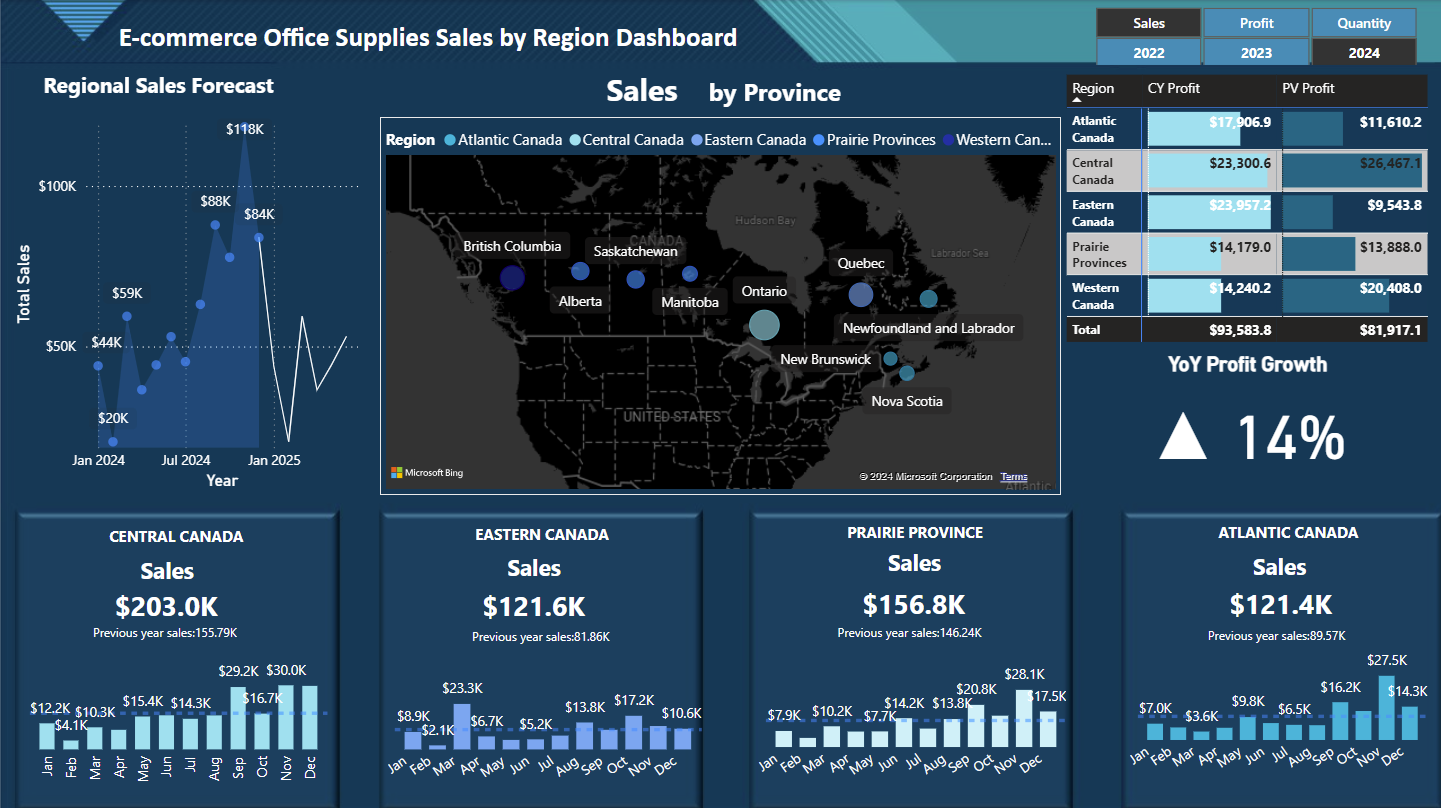

The page's visual inventory and layout, read from the dashboard file:
{"tool":"powerbi","page":{"name":"Sales","canvas":[1280,720],"ordinal":0},"visuals":[{"type":"textbox","box":[84,12,591,45],"z":0},{"type":"textbox","box":[411.4,460.2,138.3,31],"z":0,"group":"g3"},{"type":"slicer","fields":{"Values":["Select Metric.Select Metric"]},"box":[946.1,0,334.3,32.8],"z":1000},{"type":"card","fields":{"Values":["Sales Data.Dynamic Title"]},"box":[399.9,480.4,147.2,48.8],"z":1000,"group":"g3"},{"type":"card","fields":{"Values":["Sales Data.Total Sales"]},"box":[1075.8,513.2,119.7,45.8],"z":1000,"group":"g5"},{"type":"card","fields":{"Values":["Sales Data.Total Sales"]},"box":[734,515.6,151.6,39.9],"z":1000,"group":"g4"},{"type":"card","fields":{"Values":["Sales Data.Total Sales"]},"box":[67.9,517.8,160,40],"z":1000,"group":"g2"},{"type":"slicer","fields":{"Values":["Calendre table.Year"]},"box":[946.1,26.6,334.3,31],"z":2000},{"type":"textbox","box":[739.3,458,143.6,31],"z":2000,"group":"g4"},{"type":"textbox","box":[1022.6,458.4,240.3,33.3],"z":2000,"group":"g5"},{"type":"textbox","box":[76.1,462.3,144.5,30],"z":2000,"group":"g2"},{"type":"card","fields":{"Values":["Sales Data.PreviousYearSales"]},"box":[361.7,535.6,235.4,62.8],"z":2000,"group":"g3"},{"type":"map","fields":{"Size":["Sales Data.Total Sales"],"Category":["Sales Data.State/Province"],"Series":["Sales Data.Region"]},"box":[336.9,103.7,603.8,335.2],"z":3000},{"type":"card","fields":{"Values":["Sales Data.Dynamic Title"]},"box":[740.4,475.3,140.7,47.9],"z":3000,"group":"g4"},{"type":"card","fields":{"Values":["Sales Data.Dynamic Title"]},"box":[1085.3,477.5,98.4,51.4],"z":3000,"group":"g5"},{"type":"card","fields":{"Values":["Sales Data.Dynamic Title"]},"box":[73.4,484.1,149.1,47.3],"z":3000,"group":"g2"},{"type":"clusteredColumnChart","fields":{"Y":["Sales Data.Total Sales"],"Category":["Calendre table.Month"]},"box":[336.1,589.8,290.8,121.9],"z":3000,"group":"g3"},{"type":"group","id":"g1","title":"Group 3","box":[477.9,53.2,339.7,54.1],"z":4000},{"type":"card","fields":{"Values":["Sales Data.PreviousYearSales"]},"box":[692.4,532.4,227.9,60.3],"z":4000,"group":"g4"},{"type":"card","fields":{"Values":["Sales Data.PreviousYearSales"]},"box":[1015.5,533.9,233.2,64.7],"z":4000,"group":"g5"},{"type":"card","fields":{"Values":["Sales Data.PreviousYearSales"]},"box":[26.1,534.1,240.9,60],"z":4000,"group":"g2"},{"type":"group","id":"g2","title":"Group 2","box":[19.7,462.3,275.8,246.2],"z":5000},{"type":"group","id":"g3","title":"Group 1","box":[336.1,460.2,290.8,251.5],"z":6000},{"type":"clusteredColumnChart","fields":{"Y":["Sales Data.Total Sales"],"Category":["Calendre table.Month"]},"box":[994,565.3,276.7,137.4],"z":6000,"group":"g5"},{"type":"clusteredColumnChart","fields":{"Y":["Sales Data.Total Sales"],"Category":["Calendre table.Month"]},"box":[19.7,575.5,275.8,133],"z":6000,"group":"g2"},{"type":"clusteredColumnChart","fields":{"Y":["Sales Data.Total Sales"],"Category":["Calendre table.Month"]},"box":[664.1,578.9,286.4,130.4],"z":6000,"group":"g4"},{"type":"card","fields":{"Values":["Sales Data.Total Sales"]},"box":[392.8,517.8,160.5,39.9],"z":7000},{"type":"group","id":"g4","title":"Group 2","box":[664.1,458,286.4,251.3],"z":8000},{"type":"card","fields":{"Values":["Sales Data.Dynamic Title"]},"box":[477.9,53.2,182.7,54.1],"z":9000,"group":"g1"},{"type":"group","id":"g5","title":"Group 2","box":[994,458.4,276.7,244.4],"z":9000},{"type":"textbox","box":[623.4,61,194.2,39],"z":10000,"group":"g1"},{"type":"pivotTable","fields":{"Rows":["Sales Data.Region"],"Values":["Sales Data.CurrentYearProfit","Sales Data.PreviousYearProfit"]},"box":[940.8,61.2,339.6,253.6],"z":10000},{"type":"lineChart","fields":{"Y":["Sales Data.Total Sales"],"Category":["Calendre table.Date.Variation.Date Hierarchy.Year","Calendre table.Date.Variation.Date Hierarchy.Quarter","Calendre table.Date.Variation.Date Hierarchy.Month"]},"box":[8,94,328.1,344.9],"z":12000},{"type":"textbox","box":[0,57.6,281.1,46.1],"z":13000},{"type":"card","title":"YoY Profit Growth","fields":{"Values":["Sales Data.YoY Profit"]},"box":[942.6,312.1,328.1,119.7],"z":13001}]}

Visuals, with their boxes in screenshot pixels (x1, y1, x2, y2), scaled from the page's 1280x720 canvas onto the 1441x808 screenshot:
textbox: {"x1": 95, "y1": 13, "x2": 760, "y2": 64}
textbox: {"x1": 463, "y1": 516, "x2": 619, "y2": 551}
slicer - Select Metric.Select Metric: {"x1": 1065, "y1": 0, "x2": 1440, "y2": 37}
card - Sales Data.Dynamic Title: {"x1": 450, "y1": 539, "x2": 616, "y2": 594}
card - Sales Data.Total Sales: {"x1": 1211, "y1": 576, "x2": 1346, "y2": 627}
card - Sales Data.Total Sales: {"x1": 826, "y1": 579, "x2": 997, "y2": 623}
card - Sales Data.Total Sales: {"x1": 76, "y1": 581, "x2": 257, "y2": 626}
slicer - Calendre table.Year: {"x1": 1065, "y1": 30, "x2": 1440, "y2": 65}
textbox: {"x1": 832, "y1": 514, "x2": 994, "y2": 549}
textbox: {"x1": 1151, "y1": 514, "x2": 1422, "y2": 552}
textbox: {"x1": 86, "y1": 519, "x2": 248, "y2": 552}
card - Sales Data.PreviousYearSales: {"x1": 407, "y1": 601, "x2": 672, "y2": 672}
map - Sales Data.Total Sales x Sales Data.State/Province: {"x1": 379, "y1": 116, "x2": 1059, "y2": 493}
card - Sales Data.Dynamic Title: {"x1": 834, "y1": 533, "x2": 992, "y2": 587}
card - Sales Data.Dynamic Title: {"x1": 1222, "y1": 536, "x2": 1333, "y2": 594}
card - Sales Data.Dynamic Title: {"x1": 83, "y1": 543, "x2": 250, "y2": 596}
clusteredColumnChart - Sales Data.Total Sales x Calendre table.Month: {"x1": 378, "y1": 662, "x2": 706, "y2": 799}
"Group 3" group: {"x1": 538, "y1": 60, "x2": 920, "y2": 120}
card - Sales Data.PreviousYearSales: {"x1": 779, "y1": 597, "x2": 1036, "y2": 665}
card - Sales Data.PreviousYearSales: {"x1": 1143, "y1": 599, "x2": 1406, "y2": 672}
card - Sales Data.PreviousYearSales: {"x1": 29, "y1": 599, "x2": 301, "y2": 667}
"Group 2" group: {"x1": 22, "y1": 519, "x2": 333, "y2": 795}
"Group 1" group: {"x1": 378, "y1": 516, "x2": 706, "y2": 799}
clusteredColumnChart - Sales Data.Total Sales x Calendre table.Month: {"x1": 1119, "y1": 634, "x2": 1431, "y2": 789}
clusteredColumnChart - Sales Data.Total Sales x Calendre table.Month: {"x1": 22, "y1": 646, "x2": 333, "y2": 795}
clusteredColumnChart - Sales Data.Total Sales x Calendre table.Month: {"x1": 748, "y1": 650, "x2": 1070, "y2": 796}
card - Sales Data.Total Sales: {"x1": 442, "y1": 581, "x2": 623, "y2": 626}
"Group 2" group: {"x1": 748, "y1": 514, "x2": 1070, "y2": 796}
card - Sales Data.Dynamic Title: {"x1": 538, "y1": 60, "x2": 744, "y2": 120}
"Group 2" group: {"x1": 1119, "y1": 514, "x2": 1431, "y2": 789}
textbox: {"x1": 702, "y1": 68, "x2": 920, "y2": 112}
pivotTable - Sales Data.Region x Sales Data.CurrentYearProfit: {"x1": 1059, "y1": 69, "x2": 1440, "y2": 353}
lineChart - Sales Data.Total Sales x Calendre table.Date.Variation.Date Hierarchy.Year: {"x1": 9, "y1": 105, "x2": 378, "y2": 493}
textbox: {"x1": 0, "y1": 65, "x2": 316, "y2": 116}
"YoY Profit Growth" card: {"x1": 1061, "y1": 350, "x2": 1431, "y2": 485}
